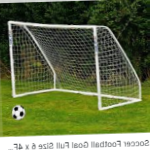goals: (7, 19, 143, 112)
